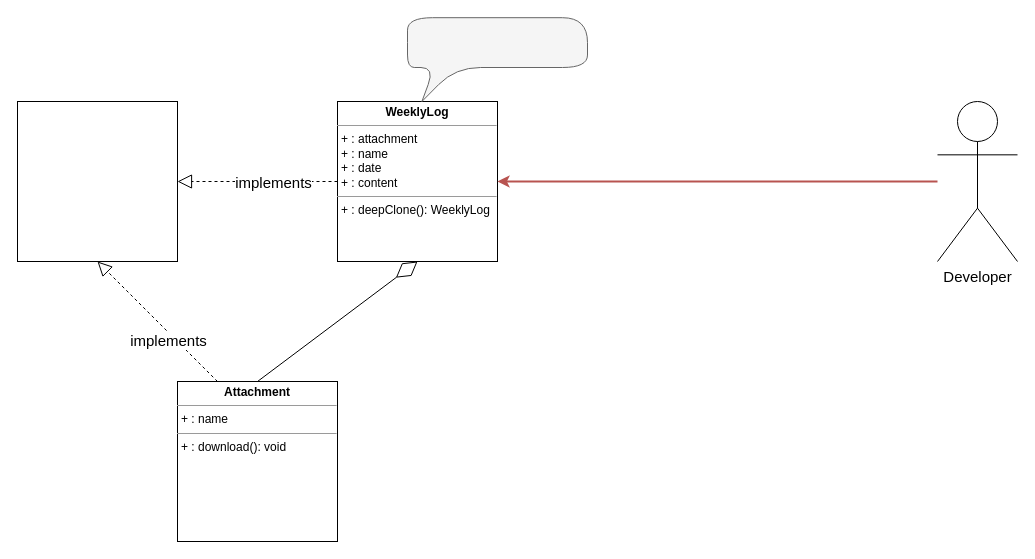
Some shapes in this 1035 by 559 pixel diagram are drawn without their labels. The centre of each missing label's shape, as x and y in pixels:
<<Interface>> Serializable: (x=97, y=181)
采用序列化的方式深度克隆: (x=497, y=59)
